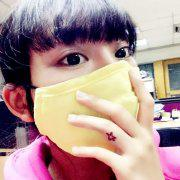OK: (31, 35, 148, 152)
